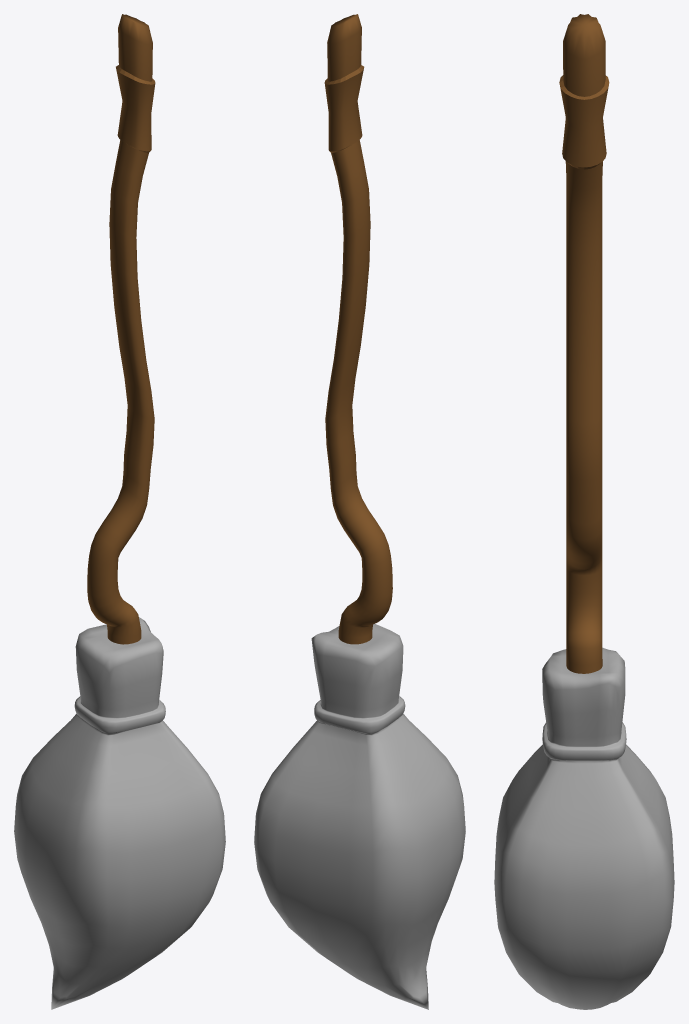
File: escoba (1).fbx
The picture shows the model from 3 angles, left to right: view 1: azimuth 30°, elevation 25°; view 2: azimuth 150°, elevation 25°; view 3: azimuth 270°, elevation 25°; orthographic projection. The views are drawn at different scales.
Visible parts, largest first — view 1: pCylinder2; view 2: pCylinder2; view 3: pCylinder2.
Part boxes in pixels (left/top/right/bottom): pCylinder2: left=14, top=14, right=225, bottom=1009; pCylinder2: left=254, top=14, right=465, bottom=1009; pCylinder2: left=494, top=14, right=674, bottom=1009.
Size of the model in its own units: 4.78 by 27.05 by 4.31.
